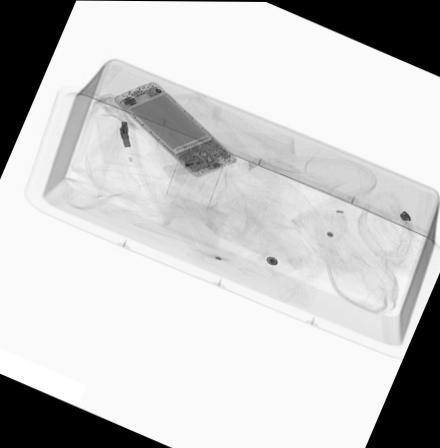Lighter: (162, 160, 208, 179)
